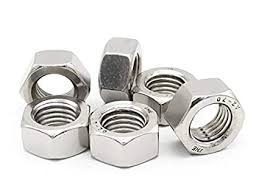Thread: (189, 97, 237, 147), (29, 99, 91, 135), (100, 101, 151, 142), (141, 65, 189, 105), (32, 69, 82, 106)
